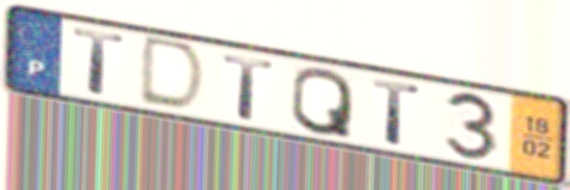3: (439, 88, 503, 165)
D: (134, 33, 210, 115)
Q: (287, 65, 355, 141)
T: (70, 26, 130, 99), (220, 51, 279, 124), (369, 75, 425, 149)
